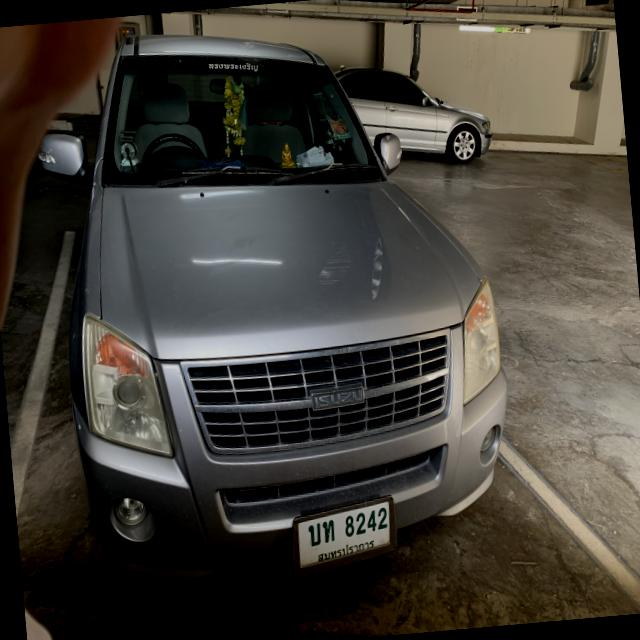license_plate: (286, 492, 403, 578)
